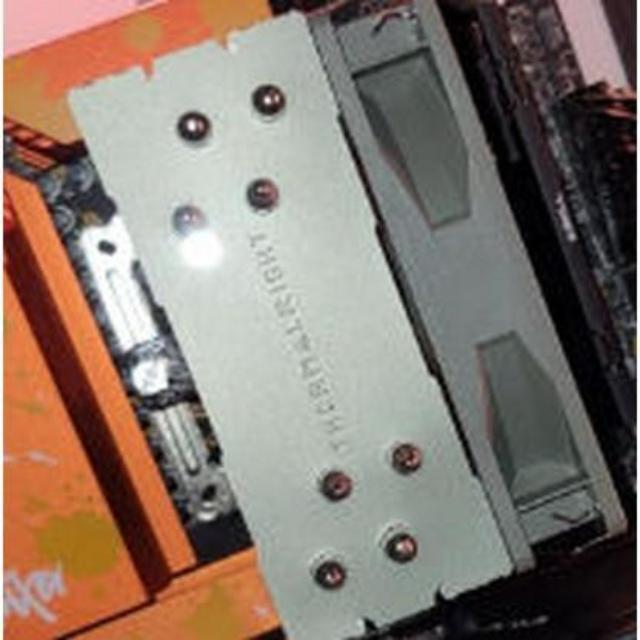CPU_Fan: (76, 0, 638, 640)
